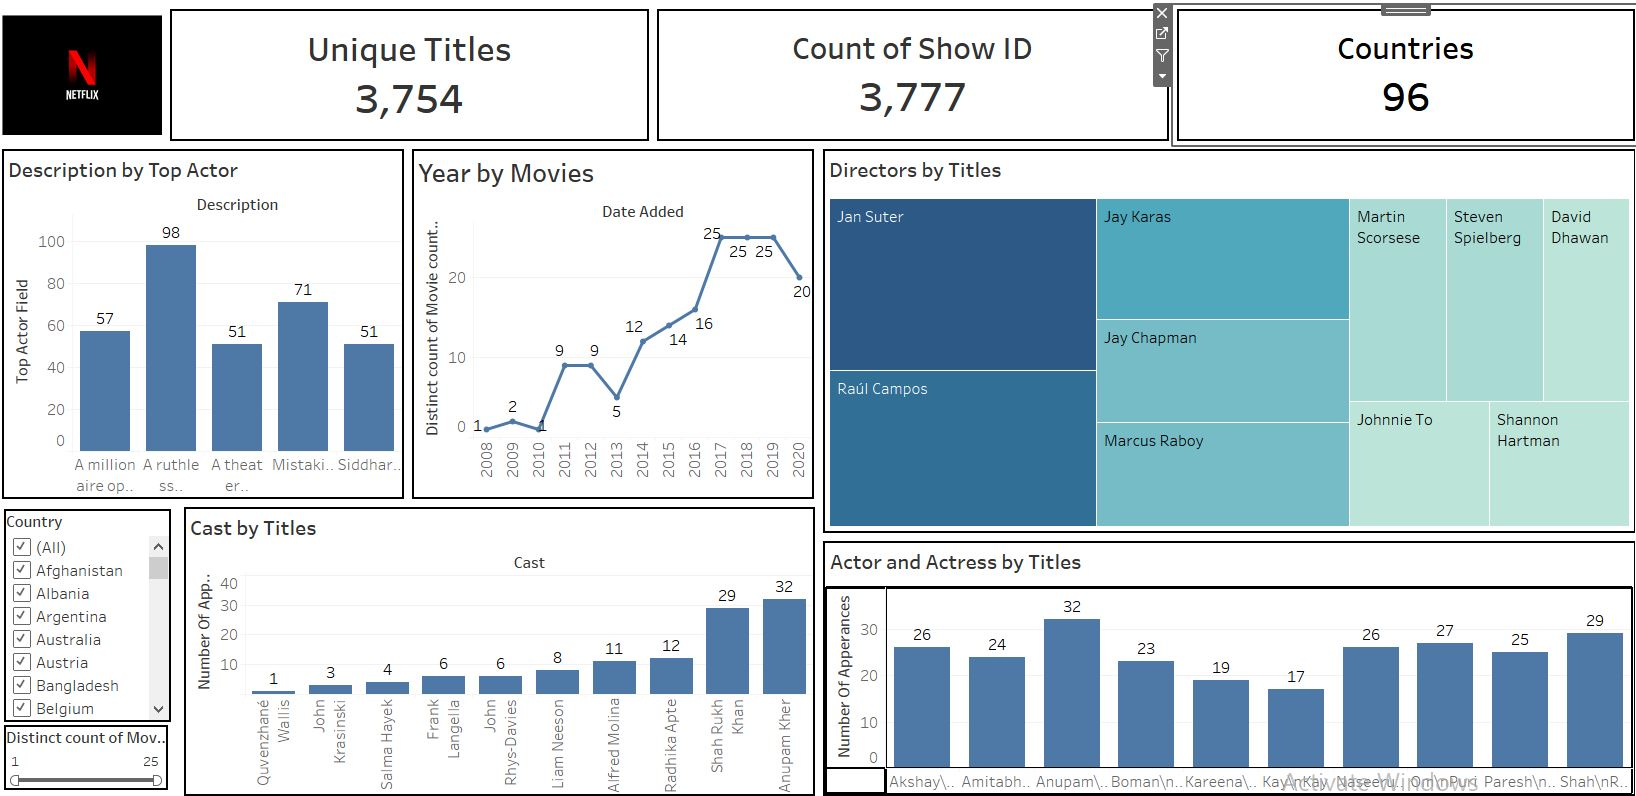

Layout of this report page (visuals, bound fields, positions):
{"tool":"tableau","page":{"name":"NetFlix Dashboard","canvas":[1000,1000],"units":"permille","ordinal":1},"visuals":[{"type":"image","param":"Image/Netflix logo.png","box":[4.8,9.9,101.2,172.6]},{"type":"worksheet","title":"KPI Card","mark":"Automatic","box":[106,9.9,294,172.6]},{"type":"worksheet","title":"KPI Card 3","mark":"Automatic","box":[400,9.9,313.8,172.6]},{"type":"worksheet","title":"KPI cARD","mark":"Automatic","box":[713.8,9.9,281.4,172.6]},{"type":"worksheet","title":"Netflic sheet 4","mark":"Automatic","rows":["Calculation_1179943149443211269"],"cols":["description"],"box":[4.8,182.5,247.6,441.4]},{"type":"worksheet","title":"Sheet 29","mark":"Automatic","rows":["Calculation_1179943149439119362"],"cols":["date_added"],"box":[252.4,182.5,247.6,441.4]},{"type":"worksheet","title":"Netflix Sheet 3","mark":"Automatic","box":[500,182.5,495.2,483.4]},{"type":"worksheet","title":"NetFlix Sheet 2","mark":"Automatic","rows":["Calculation_734931212317589504"],"cols":["cast"],"box":[114.4,623.9,385.6,366.2]},{"type":"filter","title":"NetFlix Sheet 2","param":"[federated.0gcaol21el00n81bjtkb615w0ats].[none:country:nk]","box":[8.4,631.3,100.6,262.6]},{"type":"worksheet","title":"Netflix sheet 1","mark":"Automatic","rows":["Calculation_734931212317589504"],"cols":["Calculation_1179943149445726216"],"box":[500,665.8,495.2,324.3]},{"type":"filter","title":"Sheet 29","param":"[federated.0gcaol21el00n81bjtkb615w0ats].[ctd:Calculation_1179943149439119362:qk","box":[8.4,897.7,98.8,80.2]}]}

Visuals, with their boxes on the dashboard's canvas, which has no fixed pixel size, in thousandths of its width and height (x1, y1, x2, y2). These are canvas units, not pixel positions in the 1636x796 screenshot, which may show the page scaled, cropped or inside an application window:
image: left=5, top=10, right=106, bottom=182
"KPI Card" worksheet: left=106, top=10, right=400, bottom=182
"KPI Card 3" worksheet: left=400, top=10, right=714, bottom=182
"KPI cARD" worksheet: left=714, top=10, right=995, bottom=182
"Netflic sheet 4" worksheet: left=5, top=182, right=252, bottom=624
"Sheet 29" worksheet: left=252, top=182, right=500, bottom=624
"Netflix Sheet 3" worksheet: left=500, top=182, right=995, bottom=666
"NetFlix Sheet 2" worksheet: left=114, top=624, right=500, bottom=990
"NetFlix Sheet 2" filter: left=8, top=631, right=109, bottom=894
"Netflix sheet 1" worksheet: left=500, top=666, right=995, bottom=990
"Sheet 29" filter: left=8, top=898, right=107, bottom=978
